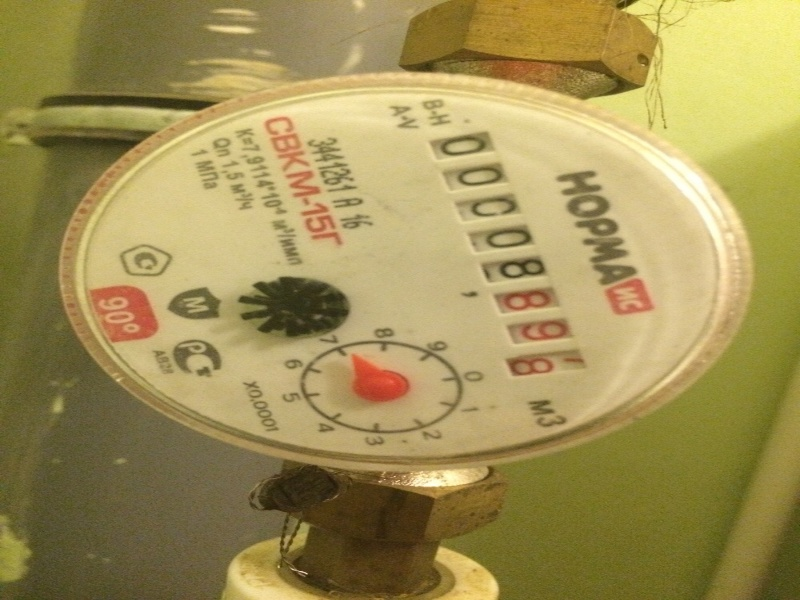meter: (432, 131, 562, 376)
